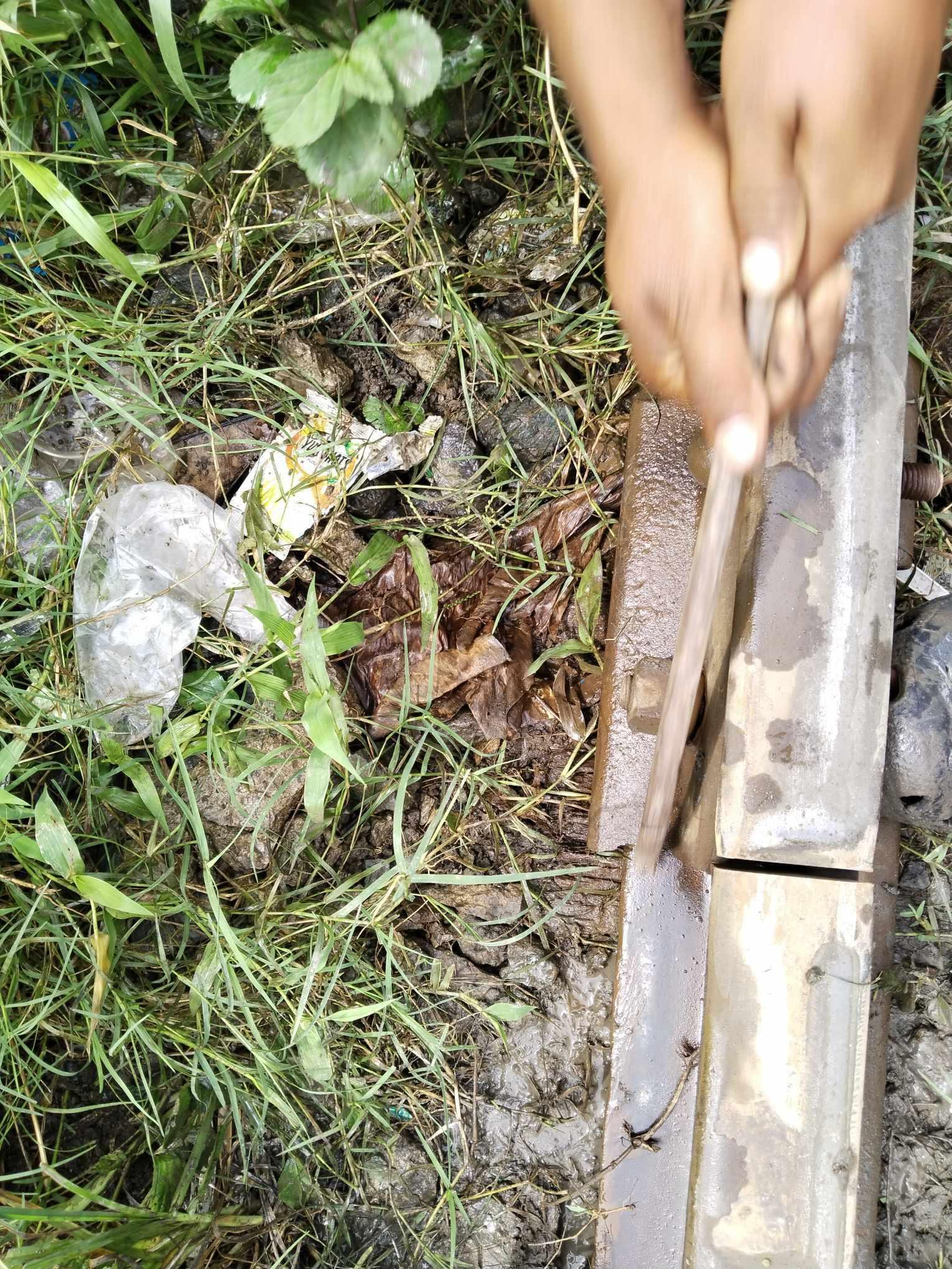railway-gap: (686, 767, 904, 983)
